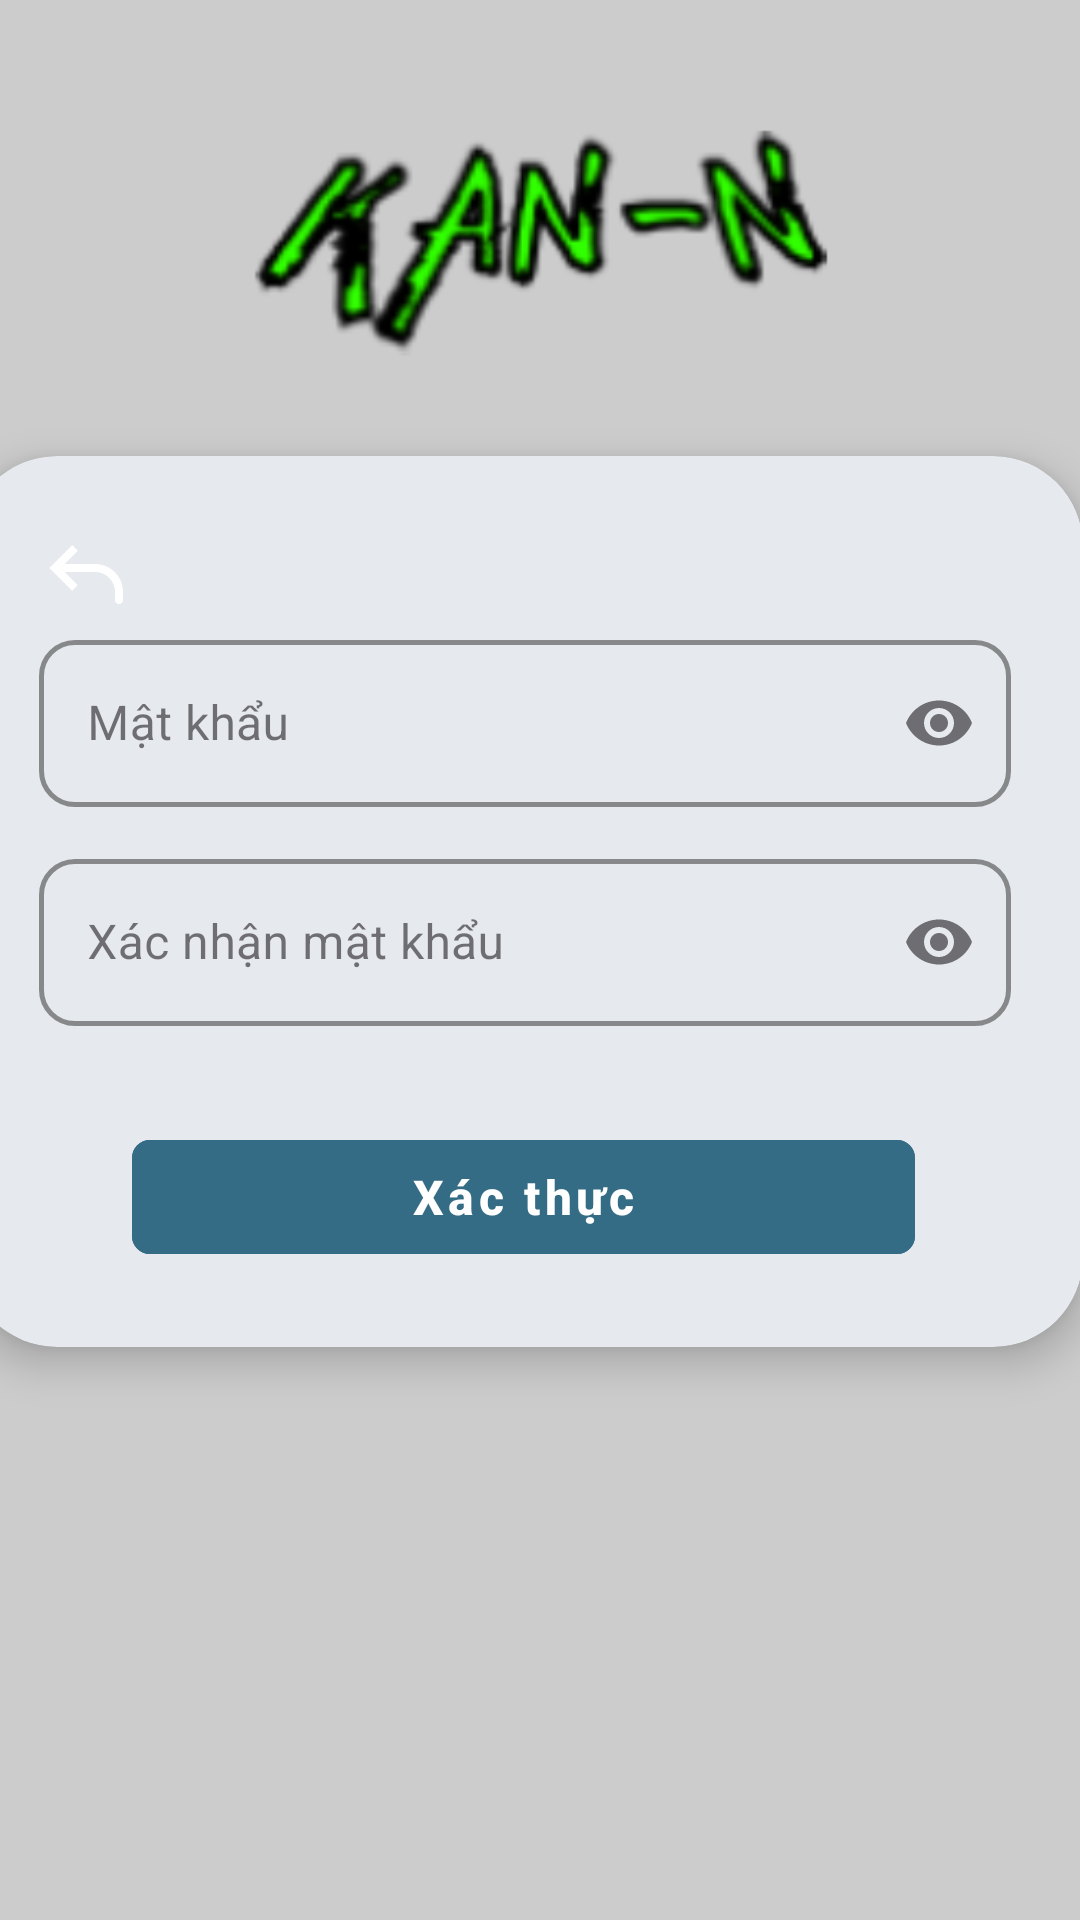

Where icons sit on this 1080px×1920px app screen, as (x1, y1, x2, y2):
Quay lại: (51, 546, 123, 603)
